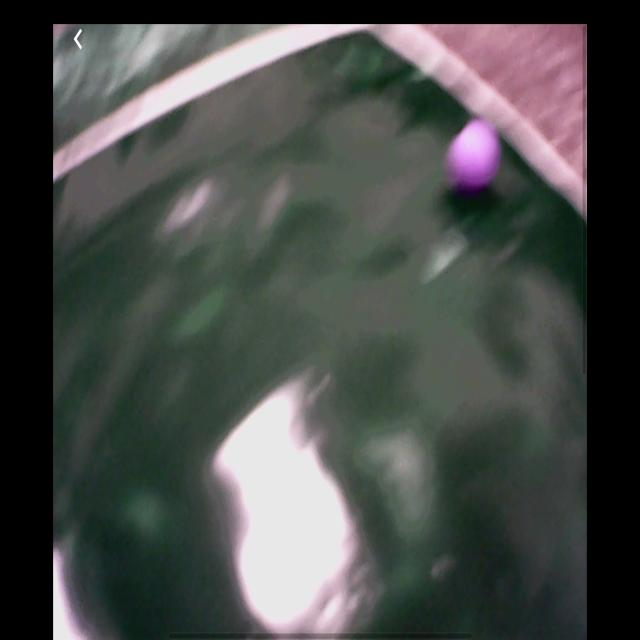ball: (445, 118, 502, 195)
